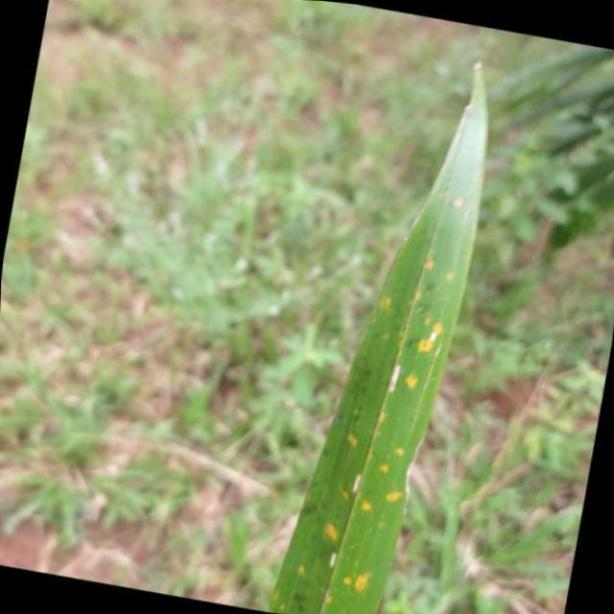Kalium: (259, 48, 488, 614)
